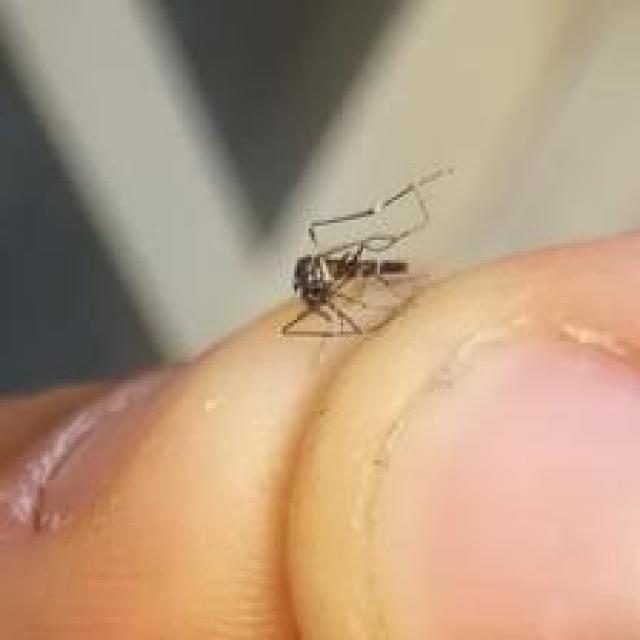Aedes albopictus: (278, 163, 456, 340)
